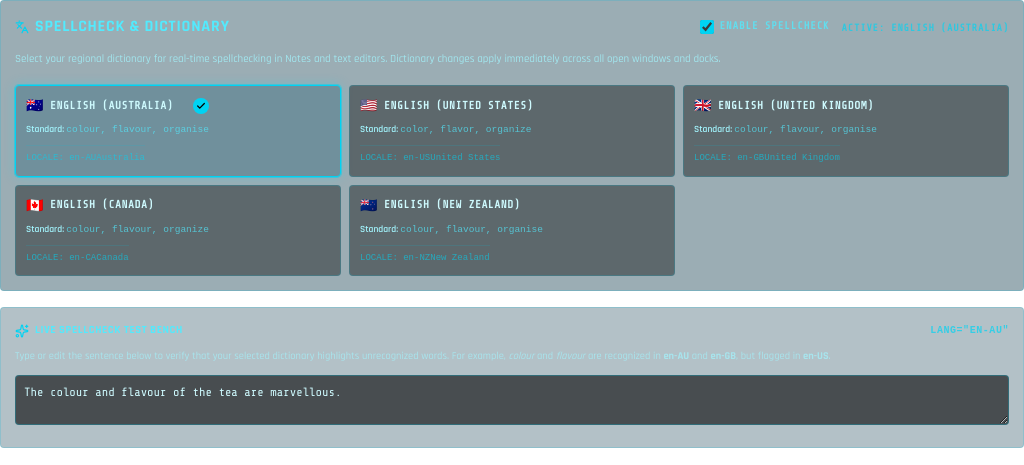
Test: EditorTab component › toggles spellcheck enabled state with the checkbox
What coordinates should you click on to do the following:
click the checkbox named "Toggle Spellcheck"
I would click on:
 (707, 27)
Its box is 700,20 -> 714,34.
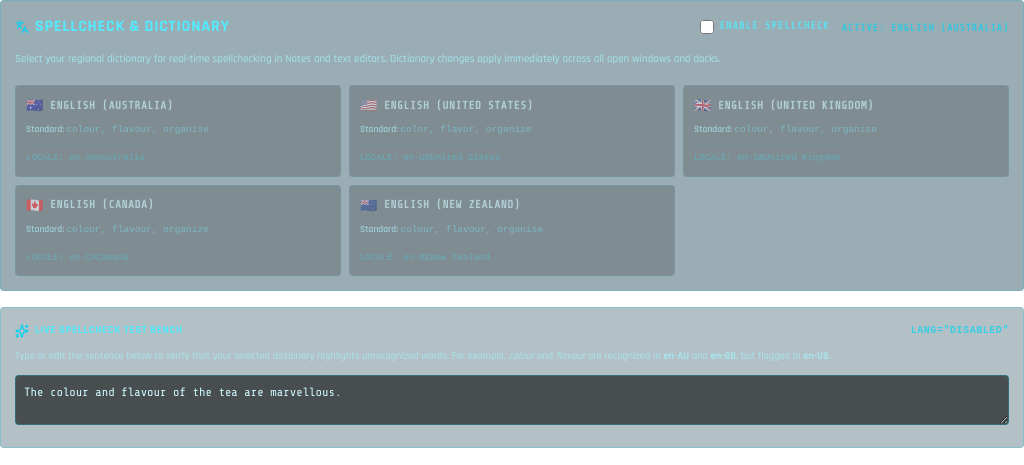
Expected: the checkbox named "Toggle Spellcheck" is not checked, 700,20 -> 714,34
Expected: the button with aria-label "Select spellcheck language English (Australia)" is disabled, 15,85 -> 341,177
